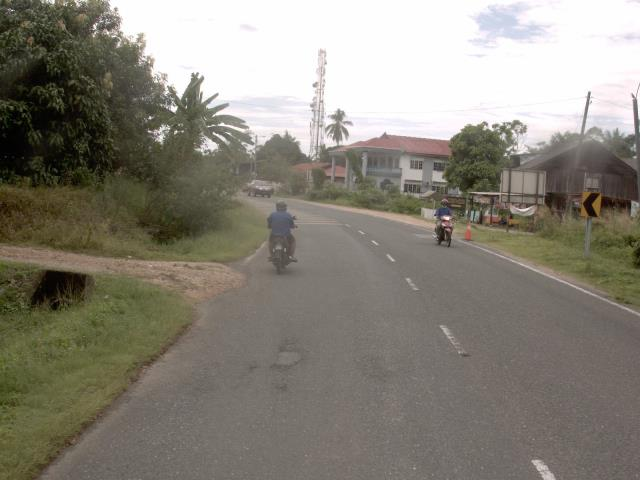traffic_sign: (573, 182, 607, 228)
